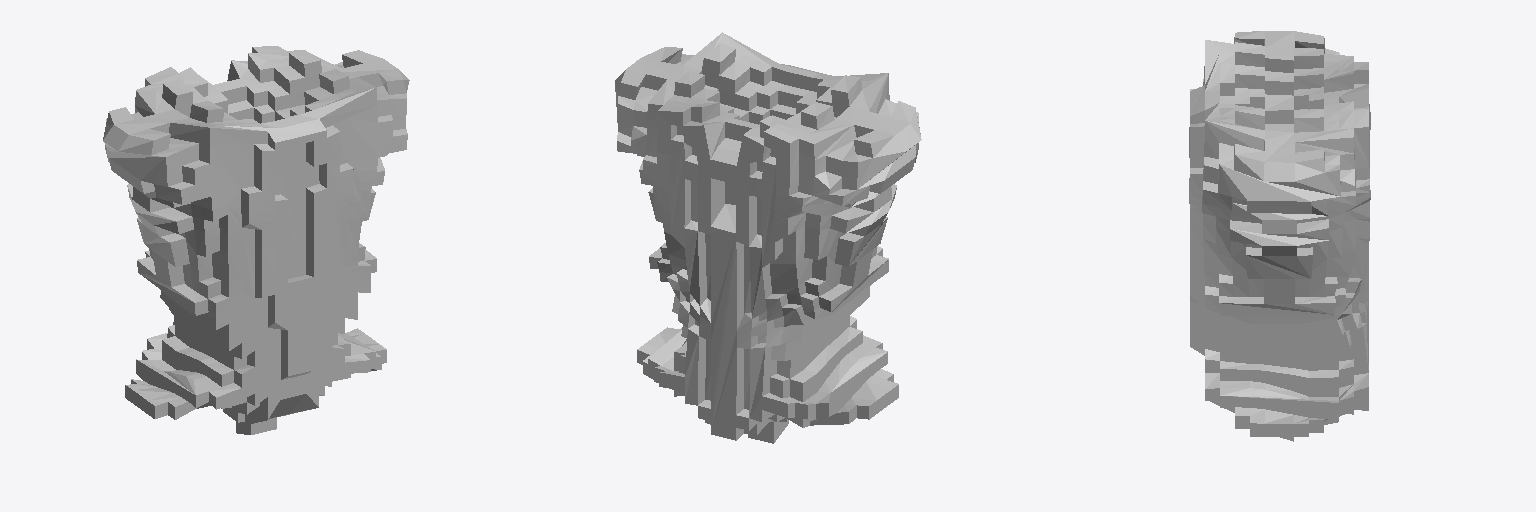
The model's file is Bot1-5.obj.
3 views of the same model, side by side, from view 1: azimuth 30°, elevation 25°; view 2: azimuth 150°, elevation 25°; view 3: azimuth 270°, elevation 25° (orthographic).
Visible parts, largest first — view 1: Bot1-5.001; view 2: Bot1-5.001; view 3: Bot1-5.001.
Boxes of the visible parts, <box> form: Bot1-5.001: <box>103,46,409,434</box>; Bot1-5.001: <box>615,32,921,443</box>; Bot1-5.001: <box>1189,31,1370,441</box>.
Bounding box in the file's own units: 2.26 × 2.66 × 1.22.